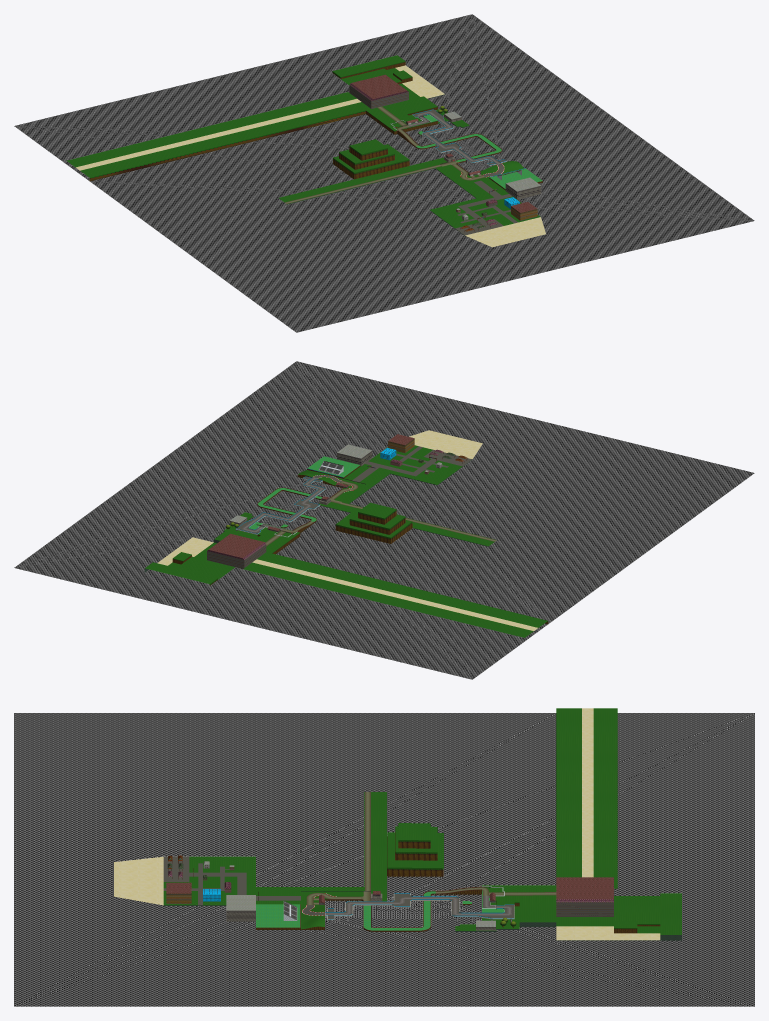
3 views of the same model, one above another, from view 1: azimuth 30°, elevation 25°; view 2: azimuth 150°, elevation 25°; view 3: azimuth 270°, elevation 25° (orthographic). The views are drawn at different scales.
Parts seen in each view (by area): view 1: CRG_2054_SKP__lake.001, CRG_2054_SKP__grass_offroad.001, CRG_2054_SKP__sand.001, CRG_2054_SKP__dirtface.001, CRG_2054_SKP__road_snes.001, CRG_2054_SKP__dirtface1.001, CRG_2054_SKP__roof.001, CRG_2054_SKP__dirt_kc.001, CRG_2054_SKP__accf_grass2.001; view 2: CRG_2054_SKP__lake.001, CRG_2054_SKP__grass_offroad.001, CRG_2054_SKP__sand.001, CRG_2054_SKP__dirtface.001, CRG_2054_SKP__road_snes.001, CRG_2054_SKP__roof.001, CRG_2054_SKP__accf_grass2.001, CRG_2054_SKP__dirt_kc.001, CRG_2054_SKP__Mauville_morewindows.001, CRG_2054_SKP__ccw_glass.001; view 3: CRG_2054_SKP__lake.001, CRG_2054_SKP__grass_offroad.001, CRG_2054_SKP__sand.001, CRG_2054_SKP__road_snes.001, CRG_2054_SKP__dirtface.001, CRG_2054_SKP__roof.001, CRG_2054_SKP__accf_grass2.001, CRG_2054_SKP__dirt_kc.001, CRG_2054_SKP__Mauville_morewindows.001, CRG_2054_SKP__road_n64.001, CRG_2054_SKP__ccw_glass.001, CRG_2054_SKP__building_floor.001 (+3 smaller).
Part boxes in pixels (box(x1,y1,x2,y2)): CRG_2054_SKP__lake.001: box(14, 14, 754, 332); CRG_2054_SKP__grass_offroad.001: box(66, 55, 540, 228); CRG_2054_SKP__sand.001: box(76, 65, 545, 247); CRG_2054_SKP__dirtface.001: box(332, 61, 542, 190); CRG_2054_SKP__road_snes.001: box(408, 109, 517, 235); CRG_2054_SKP__dirtface1.001: box(89, 110, 365, 181); CRG_2054_SKP__roof.001: box(351, 74, 537, 212); CRG_2054_SKP__dirt_kc.001: box(285, 106, 484, 203); CRG_2054_SKP__accf_grass2.001: box(403, 114, 542, 188); CRG_2054_SKP__lake.001: box(14, 361, 754, 679); CRG_2054_SKP__grass_offroad.001: box(145, 445, 547, 637); CRG_2054_SKP__sand.001: box(157, 430, 537, 630); CRG_2054_SKP__dirtface.001: box(172, 465, 412, 585); CRG_2054_SKP__road_snes.001: box(237, 446, 471, 533); CRG_2054_SKP__roof.001: box(208, 434, 414, 557); CRG_2054_SKP__accf_grass2.001: box(249, 456, 360, 530); CRG_2054_SKP__dirt_kc.001: box(265, 481, 496, 546); CRG_2054_SKP__Mauville_morewindows.001: box(207, 544, 266, 568); CRG_2054_SKP__ccw_glass.001: box(236, 448, 396, 533); CRG_2054_SKP__lake.001: box(14, 713, 754, 1006); CRG_2054_SKP__grass_offroad.001: box(163, 708, 681, 934); CRG_2054_SKP__sand.001: box(114, 708, 660, 940); CRG_2054_SKP__road_snes.001: box(163, 856, 514, 918); CRG_2054_SKP__dirtface.001: box(256, 832, 660, 933); CRG_2054_SKP__roof.001: box(166, 877, 613, 902); CRG_2054_SKP__accf_grass2.001: box(256, 890, 504, 930); CRG_2054_SKP__dirt_kc.001: box(306, 792, 556, 904); CRG_2054_SKP__Mauville_morewindows.001: box(556, 902, 613, 916); CRG_2054_SKP__road_n64.001: box(325, 895, 511, 915); CRG_2054_SKP__ccw_glass.001: box(203, 889, 513, 919); CRG_2054_SKP__building_floor.001: box(203, 861, 495, 926).
Bounding box in the file's own units: 300979 × 12997 × 321178.
Materials: 45 (44 with a texture image).
